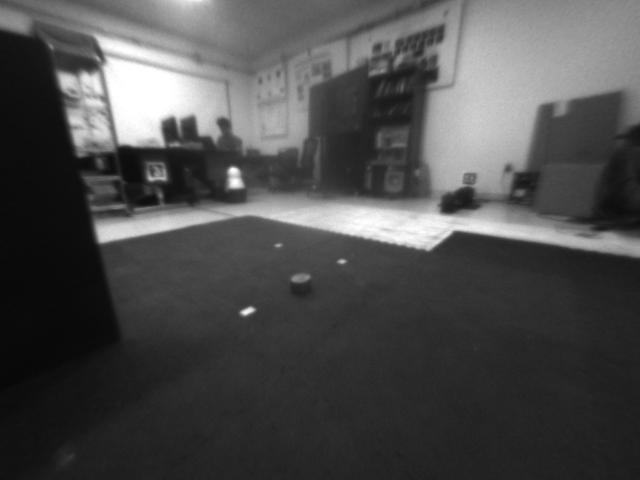dogtoy: (284, 271, 321, 295)
